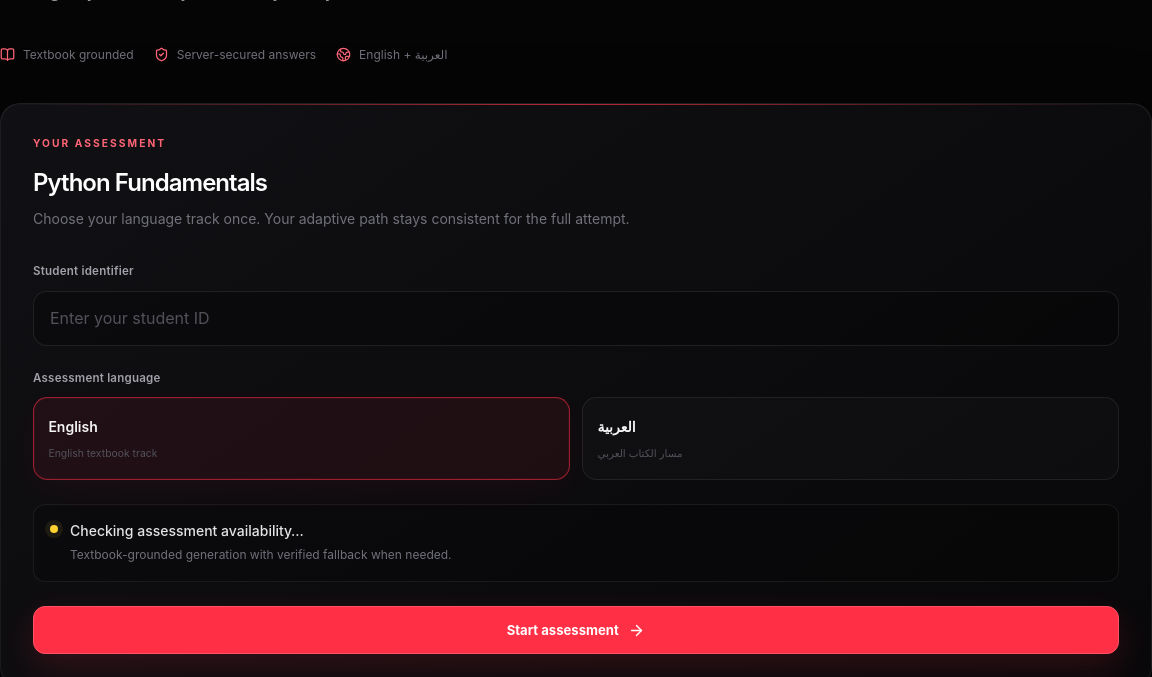
Test: AssessmentStart › validates an empty student identifier
(page scrolled)
Step 1. Click the button "Start assessment" → {"x": 576, "y": 630}, box [33, 606, 1119, 654]
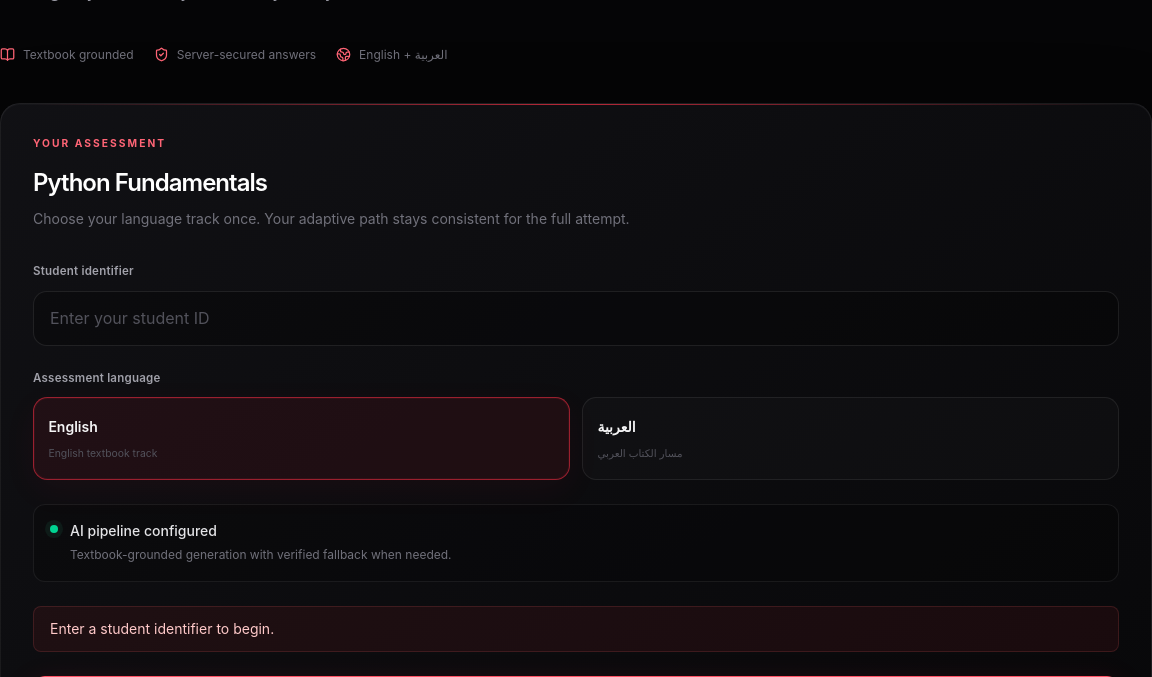
Now the message shows "Enter a student identifier", box [50, 620, 274, 637]
